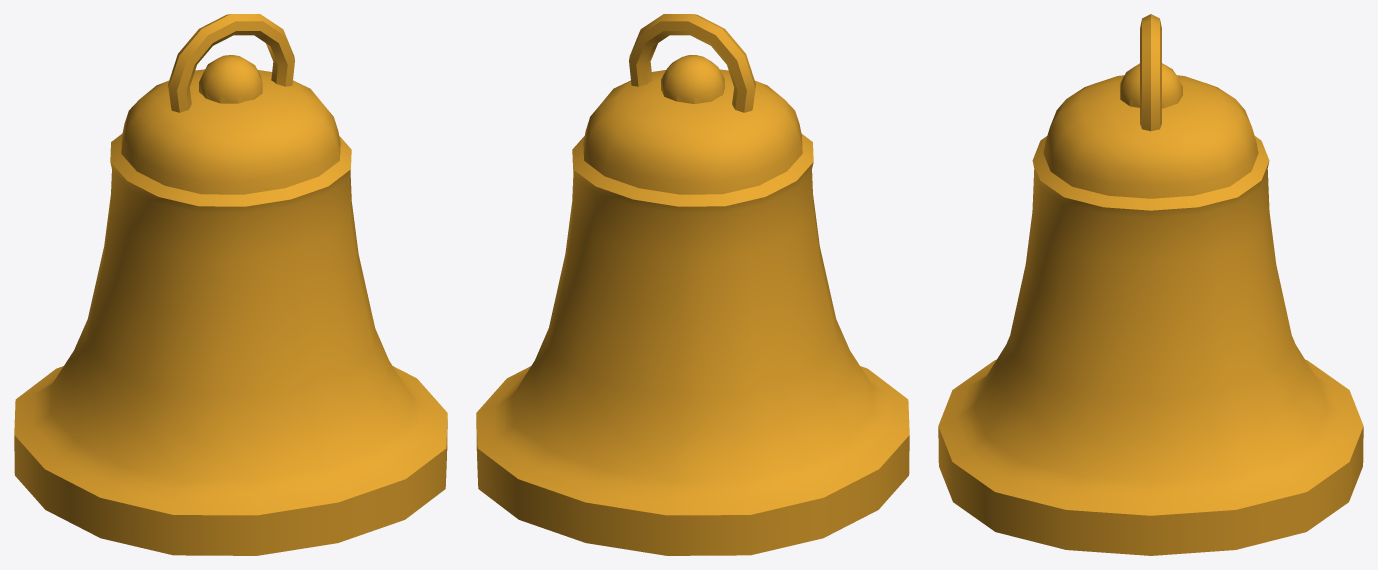
Rendered from Bell.glb.
The picture shows the model from 3 angles, left to right: view 1: azimuth 30°, elevation 25°; view 2: azimuth 150°, elevation 25°; view 3: azimuth 270°, elevation 25°; orthographic projection.
Visible parts, largest first — view 1: Bell; view 2: Bell; view 3: Bell.
Part boxes in pixels (x1,y1,x2,y2): Bell: (14,14,447,555); Bell: (476,14,909,555); Bell: (938,14,1363,555).
Bounding box in the file's own units: 0.6332 × 0.7325 × 0.6332.
